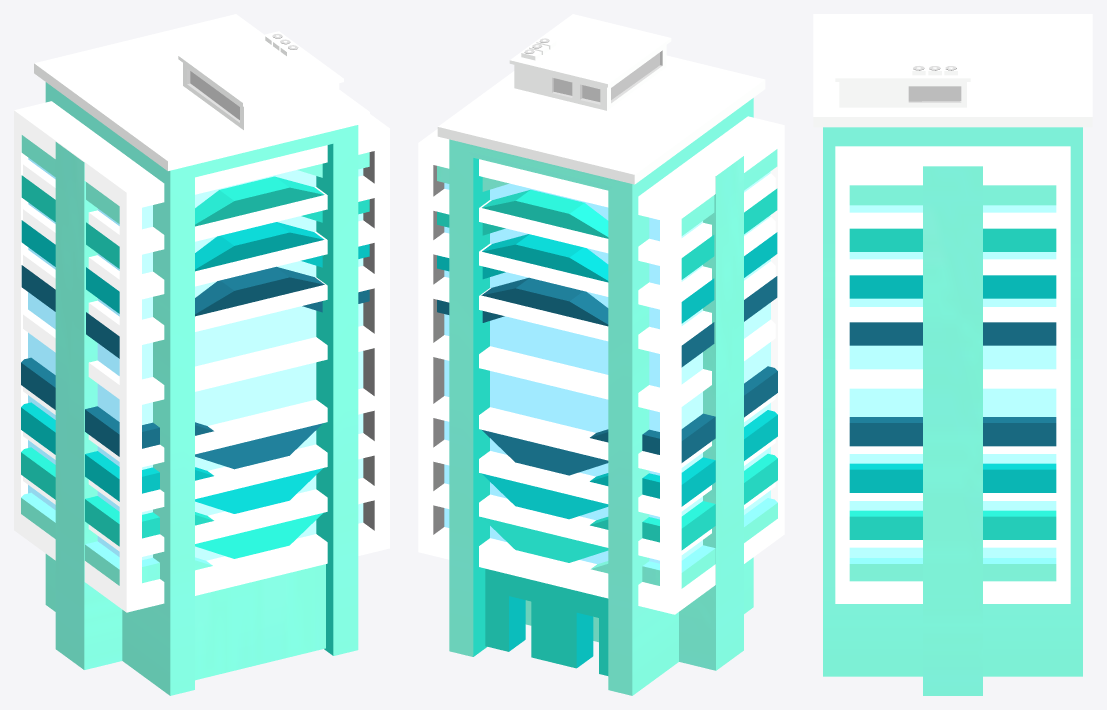
The model's file is tile_for_home_2x2.002 (4).glb.
3 views of the same model, side by side, from view 1: azimuth 30°, elevation 25°; view 2: azimuth 150°, elevation 25°; view 3: azimuth 270°, elevation 25° (orthographic). The views are drawn at different scales.
Visible parts, largest first — view 1: apartment 1.007; view 2: apartment 1.007; view 3: apartment 1.007.
Boxes of the visible parts, <box> form: apartment 1.007: <box>14,14,389,695</box>; apartment 1.007: <box>418,14,784,695</box>; apartment 1.007: <box>813,14,1092,695</box>.
Bounding box in the file's own units: 13.46 × 27.95 × 11.81.
Materials: 1 (1 with a texture image).
